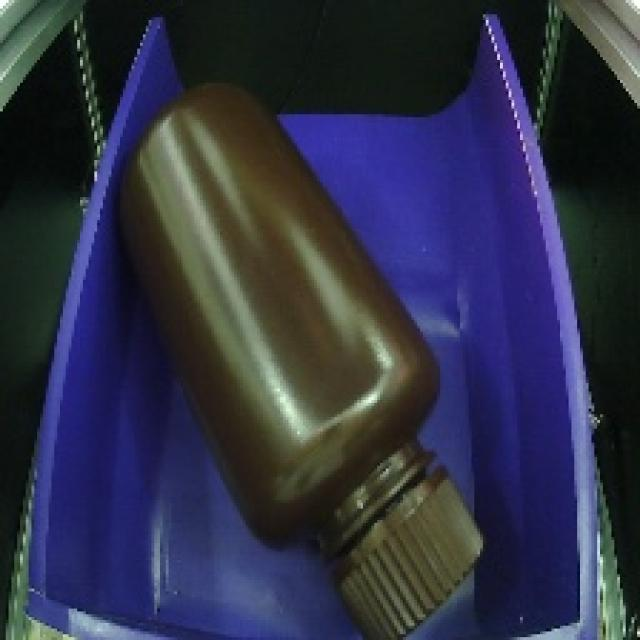plastic: (95, 54, 510, 640)
